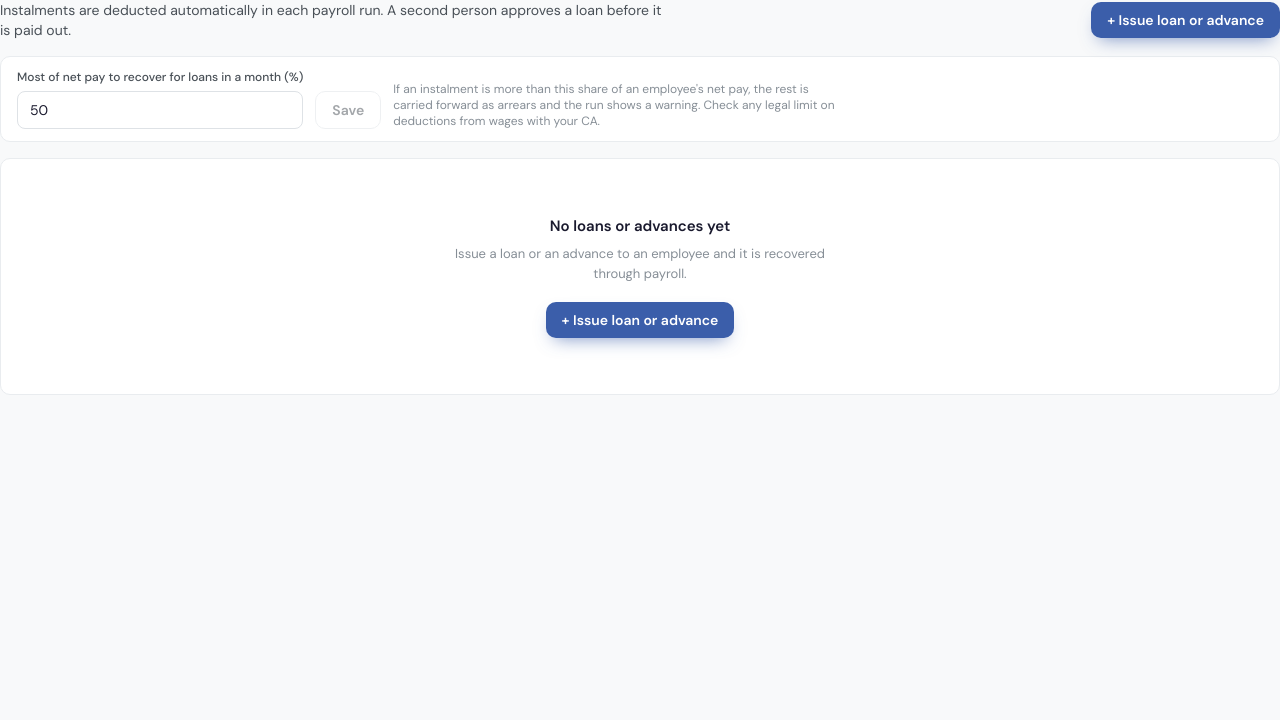
Test: LoansTab › asks for the employee and the amount before issuing
Click the 1st button "+ Issue loan or advance". click: (1186, 20)
box: [1091, 2, 1279, 38]
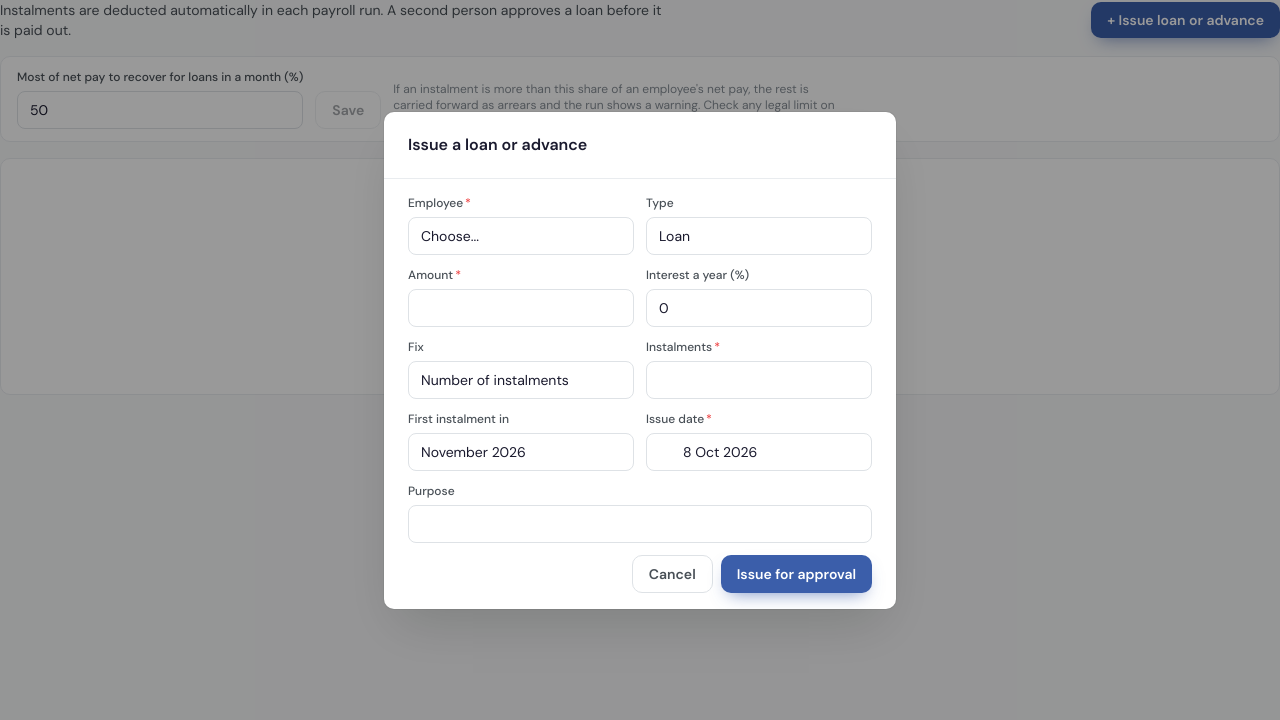
Click the button "Issue for approval". click: (796, 574)
box: [721, 554, 872, 592]
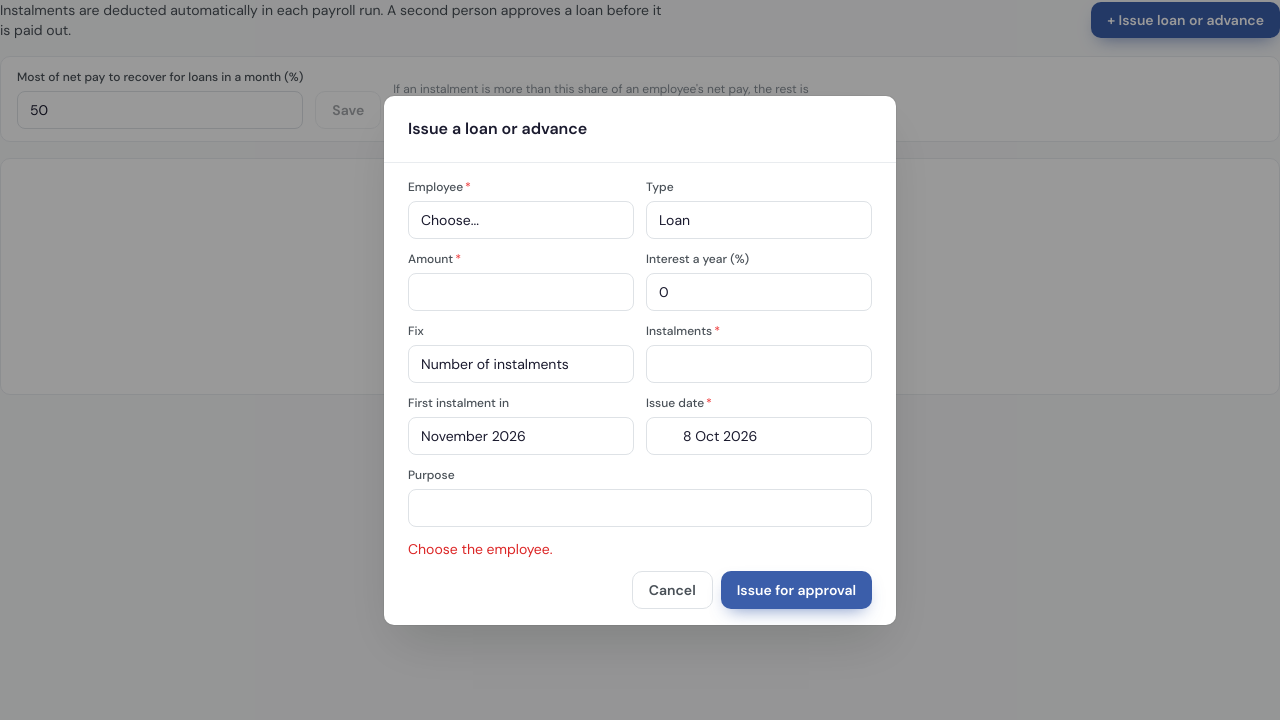
Now the message shows "Choose the employee", box [408, 540, 552, 558]
